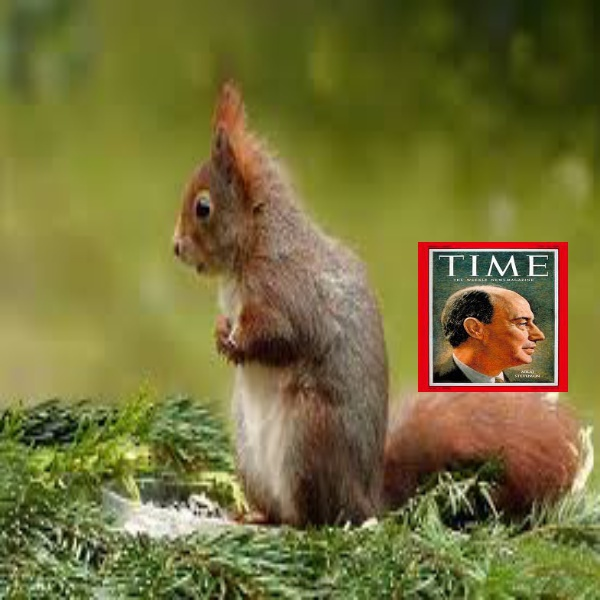time_cover: (413, 240, 567, 397)
